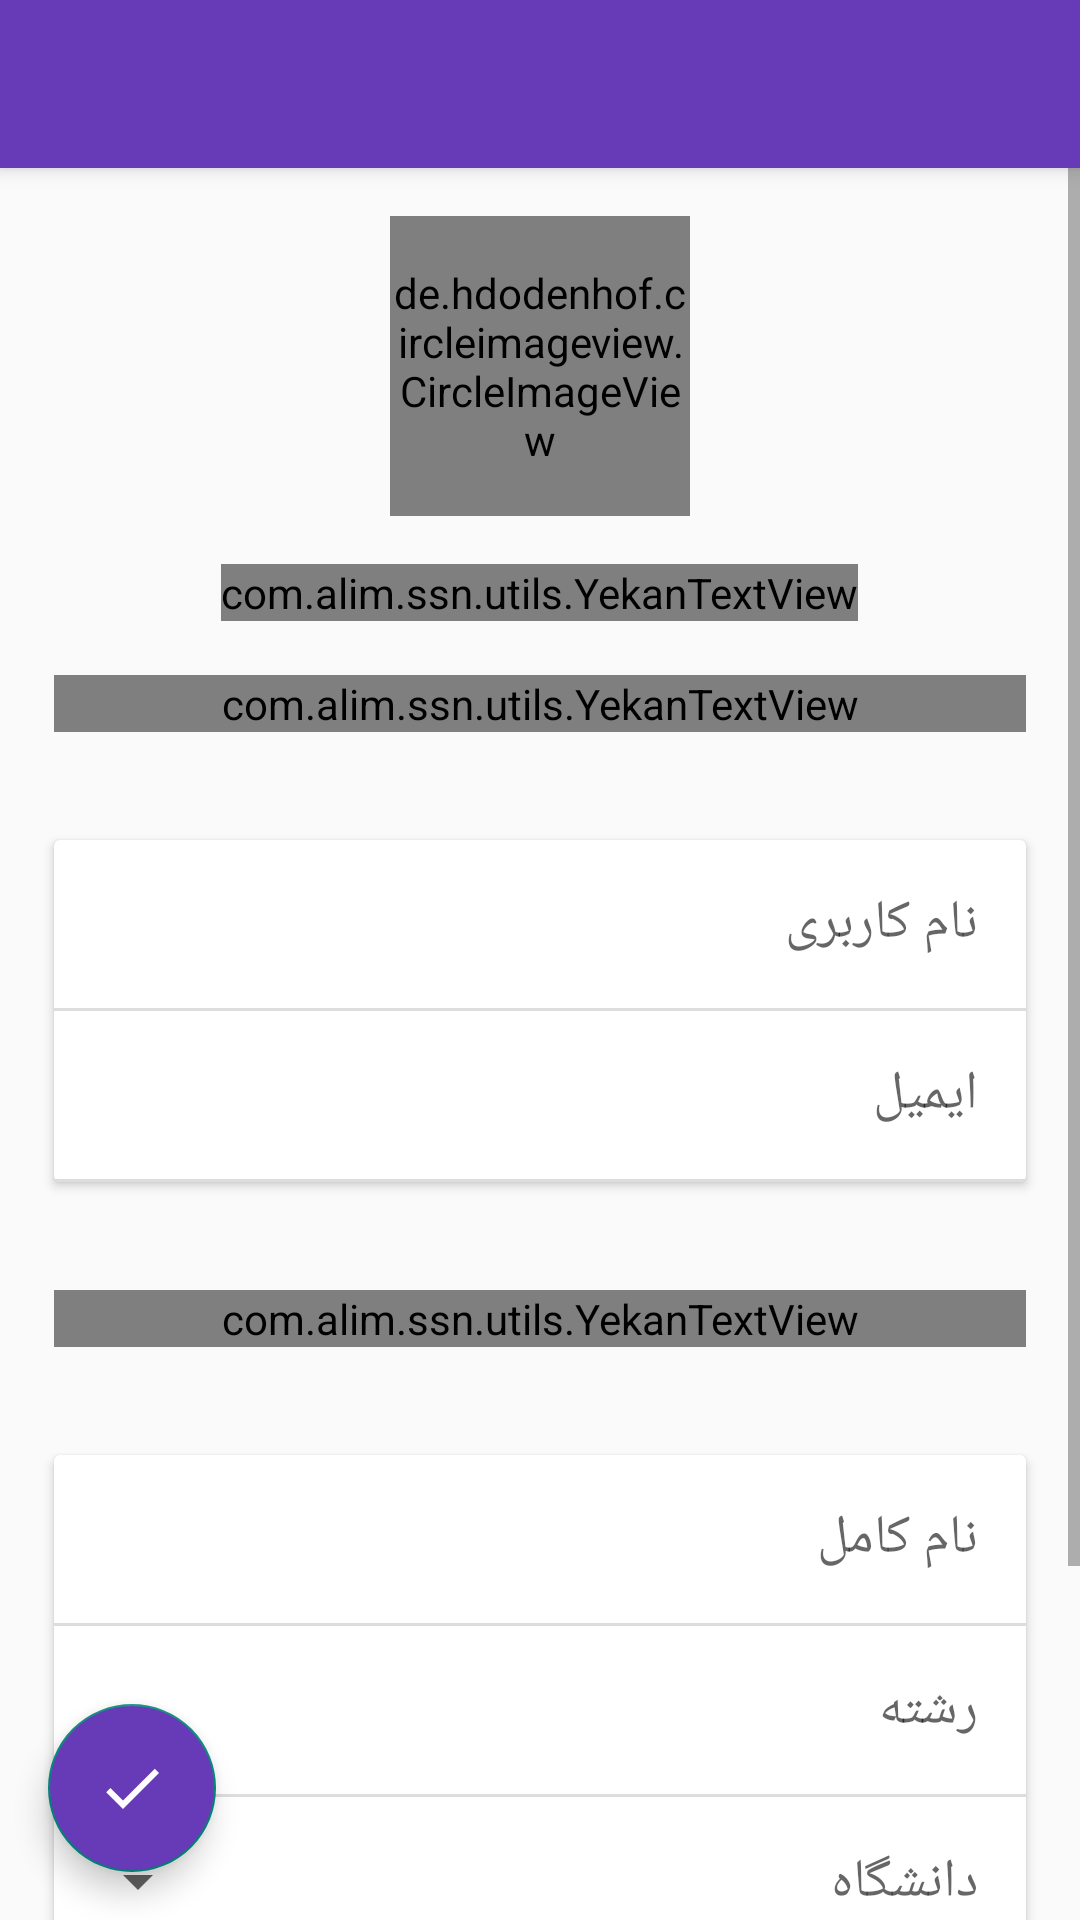

Icons on this 1080 x 1920 Android screen, each with the point to tap as (x=x, y=y):
fab done: (x=132, y=1788)
